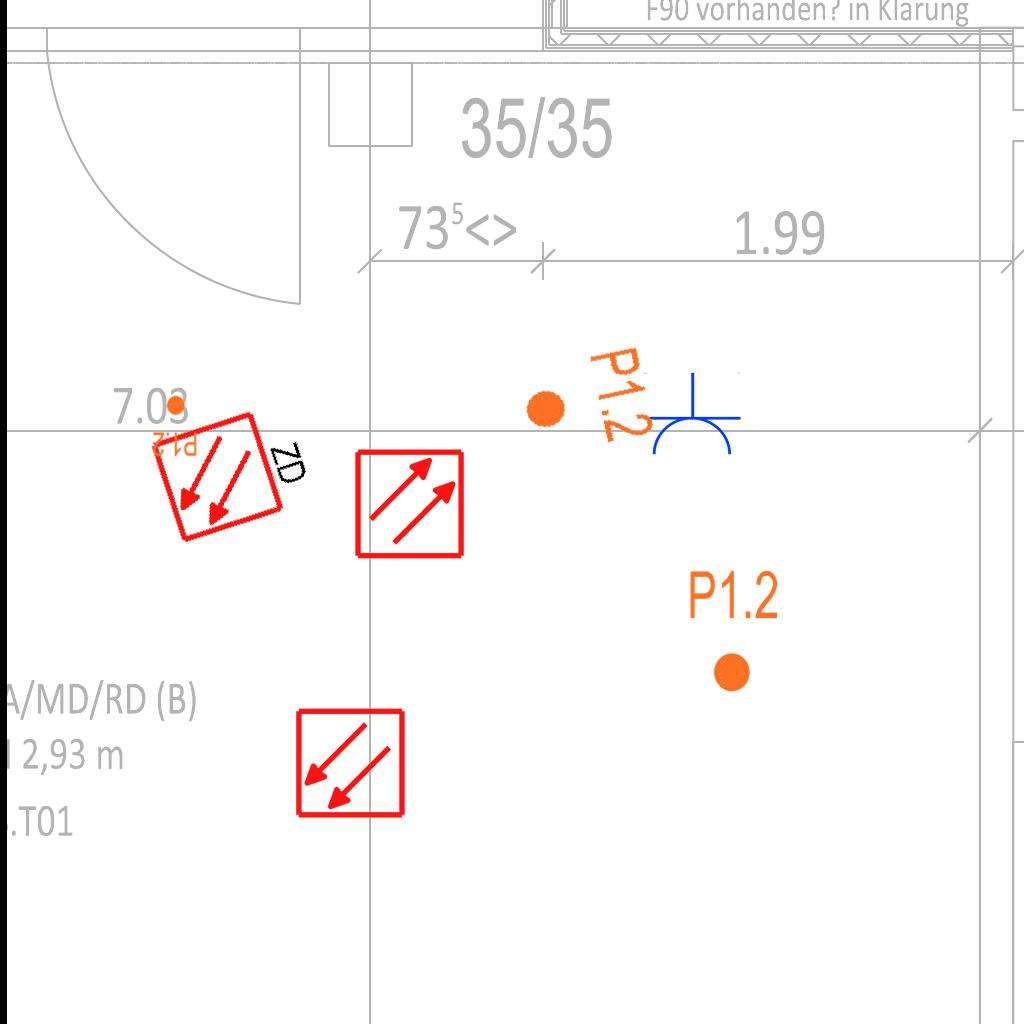Downlight_LED_Einbauleuchten_Flur: (514, 343, 659, 461), (687, 567, 780, 695), (152, 394, 198, 458)
RMO_Rauchmelder_optischer: (294, 707, 407, 820), (353, 447, 466, 560)
Schukosteckdose_einfach: (642, 372, 742, 459)
ZD_Melder_in_Zwischendecke_mit_Revisionsoeffnung_mind_40_x_40_cm: (146, 392, 324, 547)
